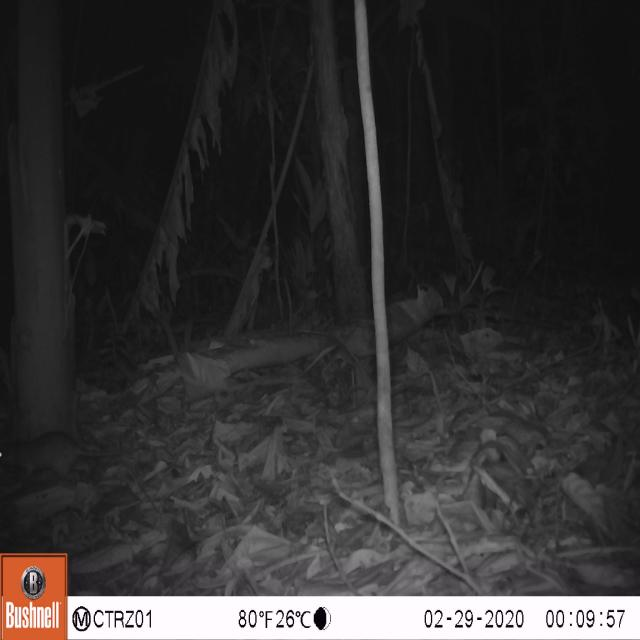Rodent: (1, 416, 115, 504)
